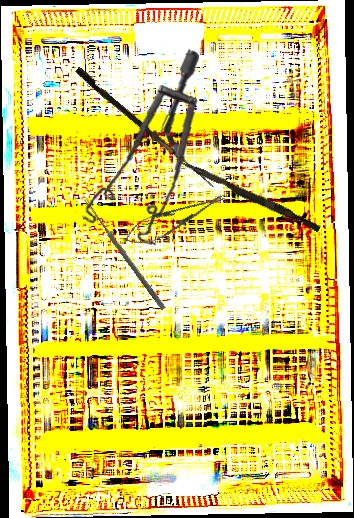Hook Surgical: (72, 66, 220, 188)
Needle Holder: (118, 185, 230, 254)
Pusher: (174, 158, 323, 233)
Speculum: (71, 48, 212, 252)
Surgical Spoon: (82, 197, 167, 311)
